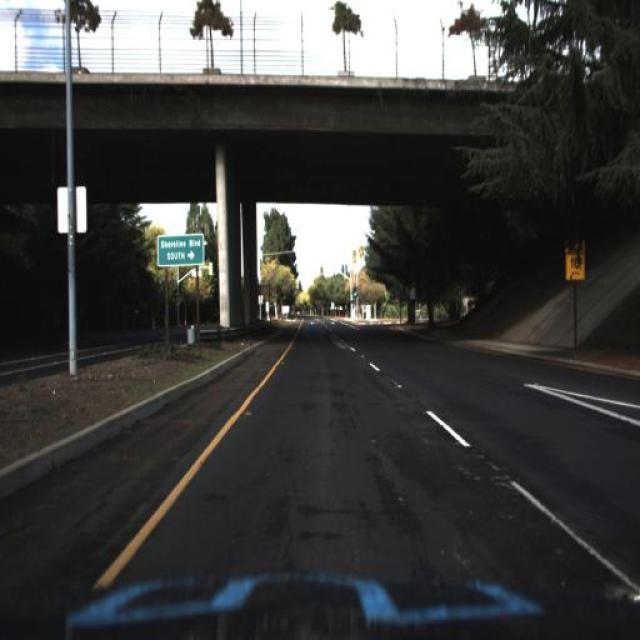trafficLight-GreenLeft: (353, 286, 358, 298), (320, 267, 324, 277)
